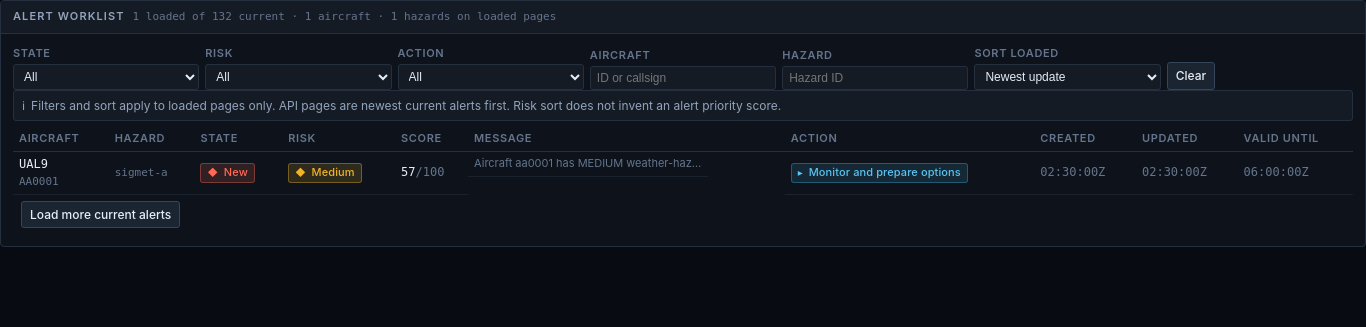
Scenario: AlertWorklist › surfaces a pagination failure without dropping the loaded page
Click the button "Load more current alerts": click(101, 214) [21,200,180,228]
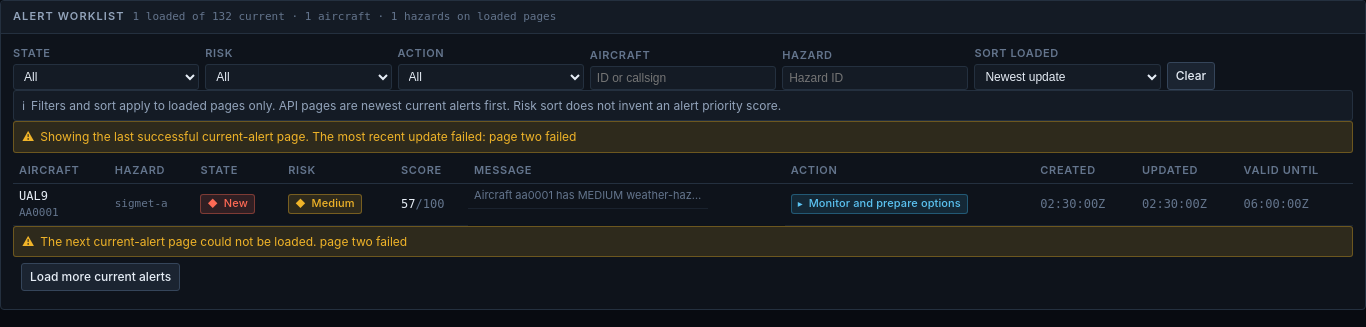
Check: the text "UAL9" is shown, box [19,189,48,203]
Check: the text "The next current-alert page could not be loaded" is shown, box [40,234,316,249]
